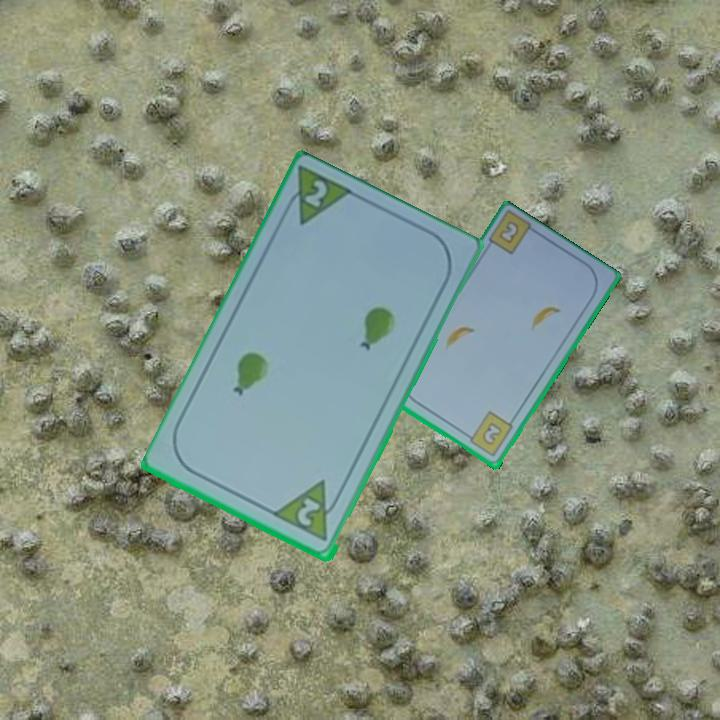2b: (462, 408, 516, 460), (495, 218, 522, 247)
2p: (278, 164, 358, 229), (272, 477, 346, 545)
